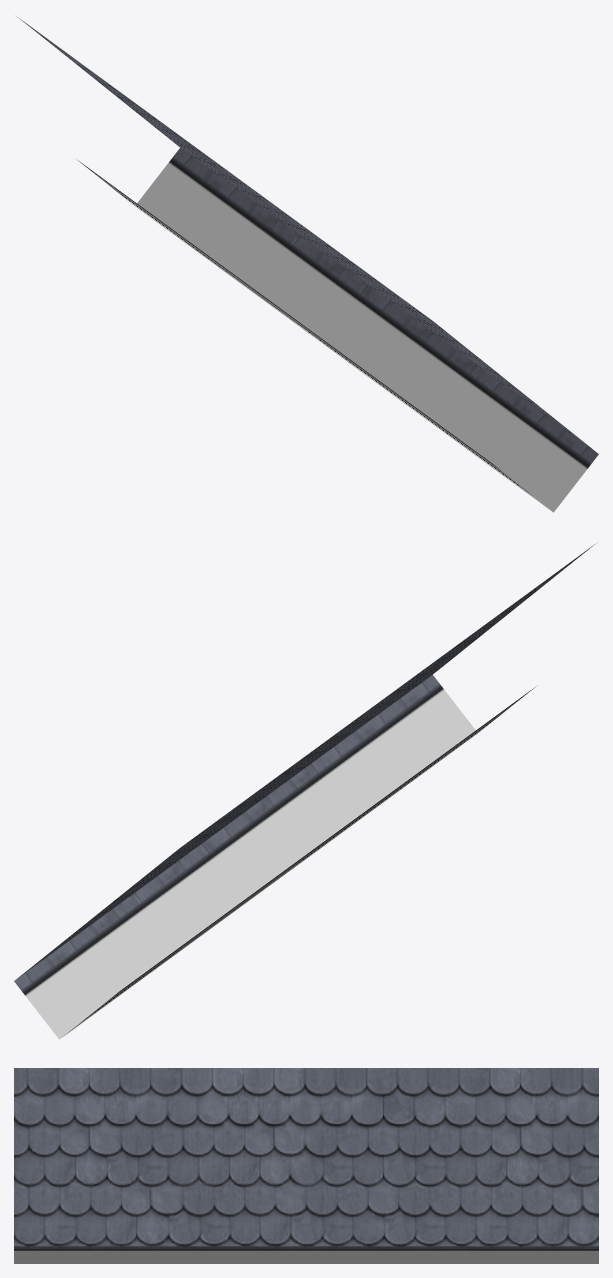
File: roofOverhang.fbx
3 renders of one model, top to bottom at view 1: azimuth 30°, elevation 25°; view 2: azimuth 150°, elevation 25°; view 3: azimuth 270°, elevation 25°, orthographic. The views are drawn at different scales.
Parts seen in each view (by area): view 1: roofOverhang; view 2: roofOverhang; view 3: roofOverhang.
Boxes of the visible parts, x1,y1,x2,y2 form: roofOverhang: [16, 16, 598, 512]; roofOverhang: [14, 543, 596, 1039]; roofOverhang: [14, 1068, 598, 1263].
Size of the model in its own units: 2.75 by 3.5 by 12.
1 material, 1 textured.
